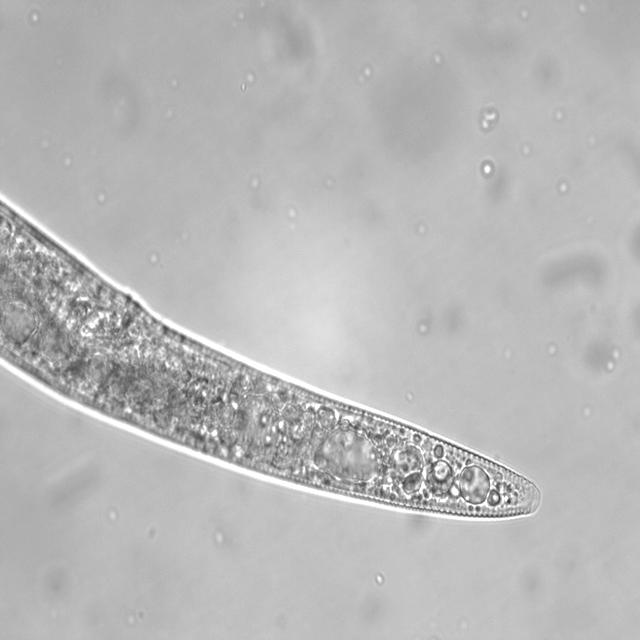Pratylenchus: (0, 185, 554, 528)
